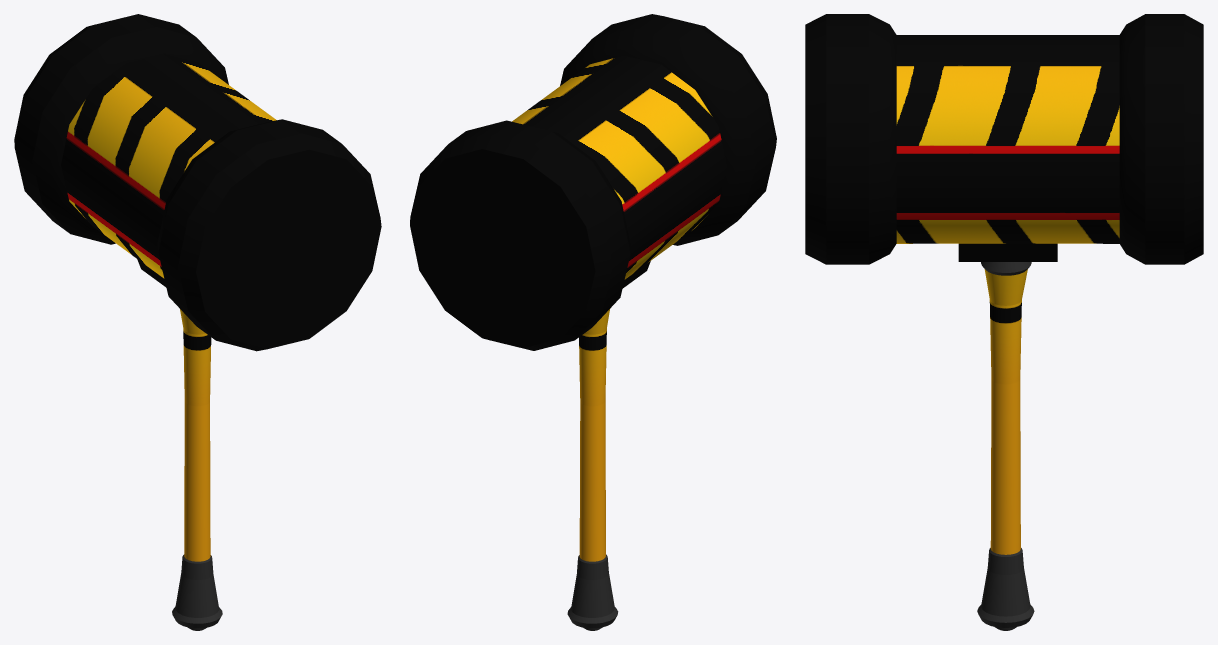
The model's file is SledgeHammer.fbx.
3 renders of one model, left to right at view 1: azimuth 30°, elevation 25°; view 2: azimuth 150°, elevation 25°; view 3: azimuth 270°, elevation 25°, orthographic. The views are drawn at different scales.
Visible parts, largest first — view 1: SledgeHAMMER; view 2: SledgeHAMMER; view 3: SledgeHAMMER.
Part boxes in pixels (left/top/right/bottom): SledgeHAMMER: left=14, top=14, right=381, bottom=630; SledgeHAMMER: left=410, top=14, right=776, bottom=630; SledgeHAMMER: left=805, top=14, right=1203, bottom=630.
Bounding box in the file's own units: 2.87 × 7.42 × 4.45.
